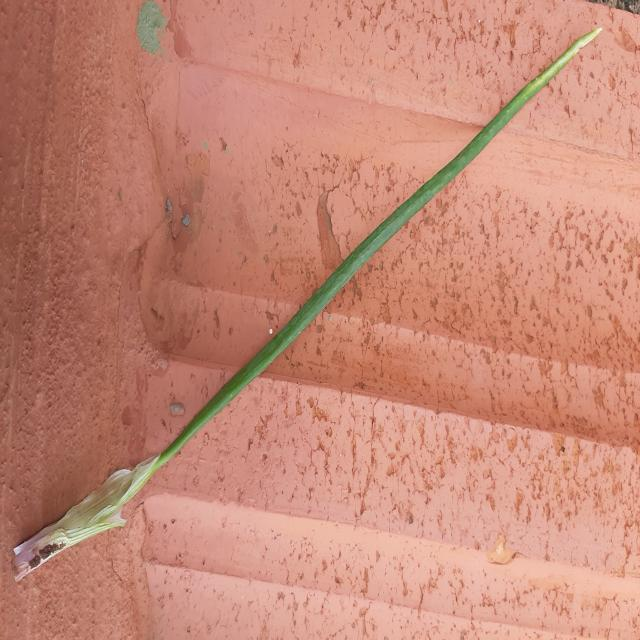onion: (12, 27, 600, 580)
